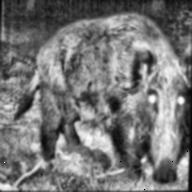boar: (16, 0, 192, 192)
